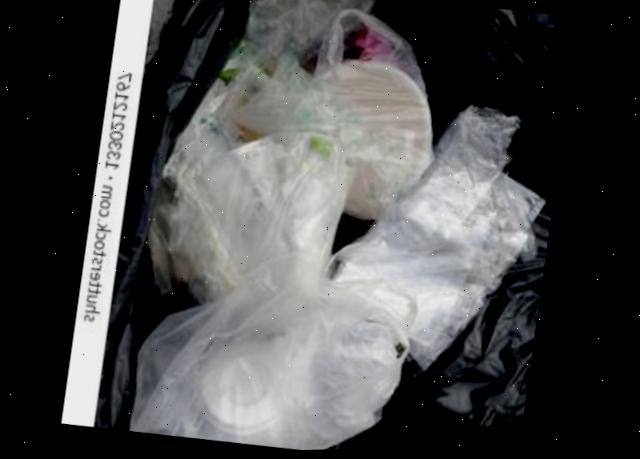Garbage: (109, 0, 545, 452)
contaminated_waste: (133, 0, 553, 452)
